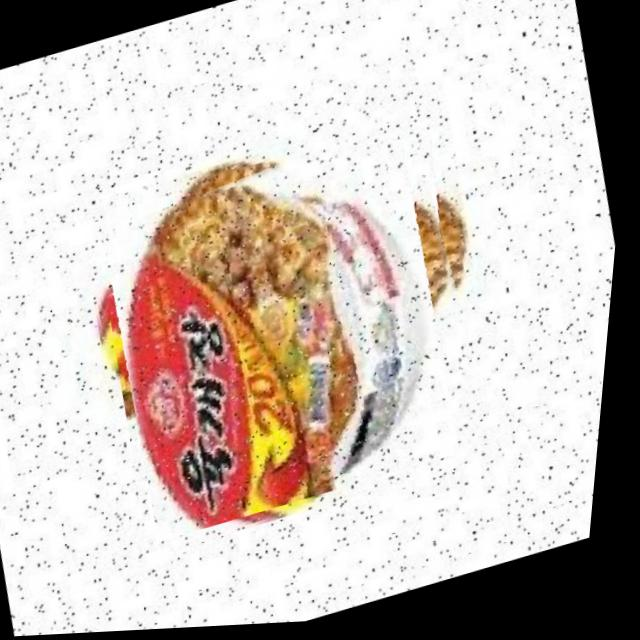Miscellaneous: (70, 105, 528, 550)
